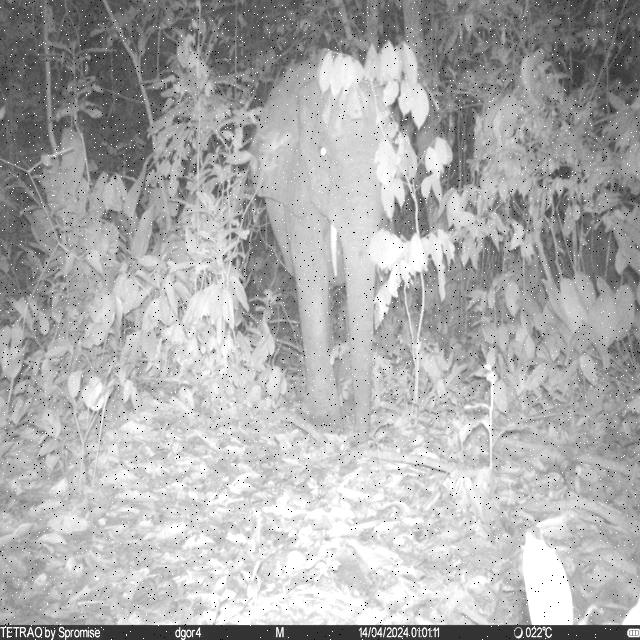ear: (250, 64, 312, 218)
elephant: (250, 49, 434, 444)
tusk: (329, 224, 340, 279)
